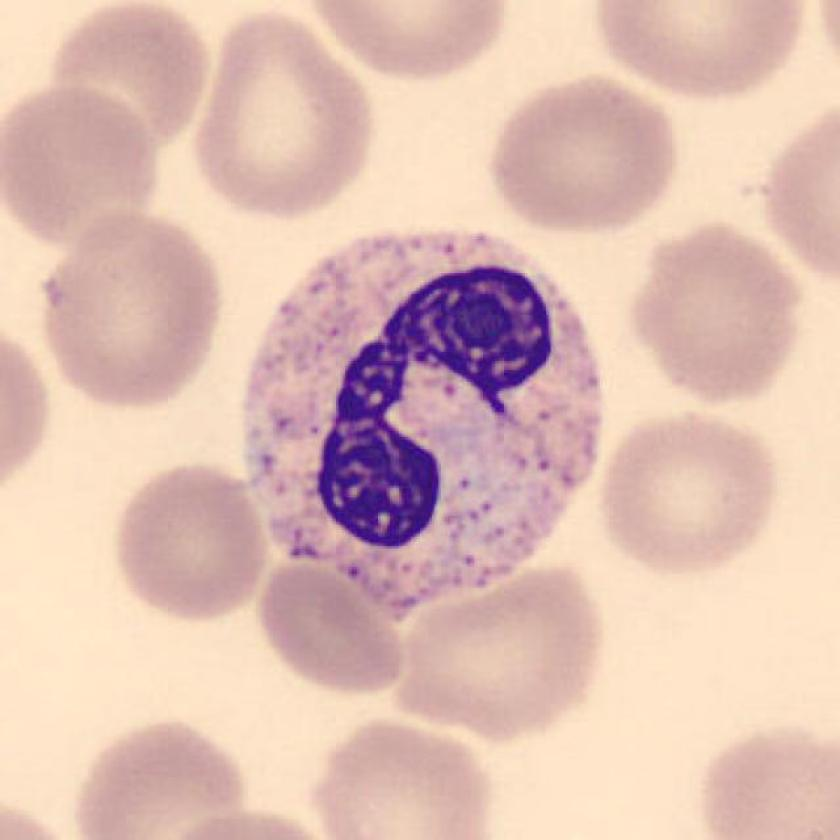neutrophil: (249, 228, 605, 618)
